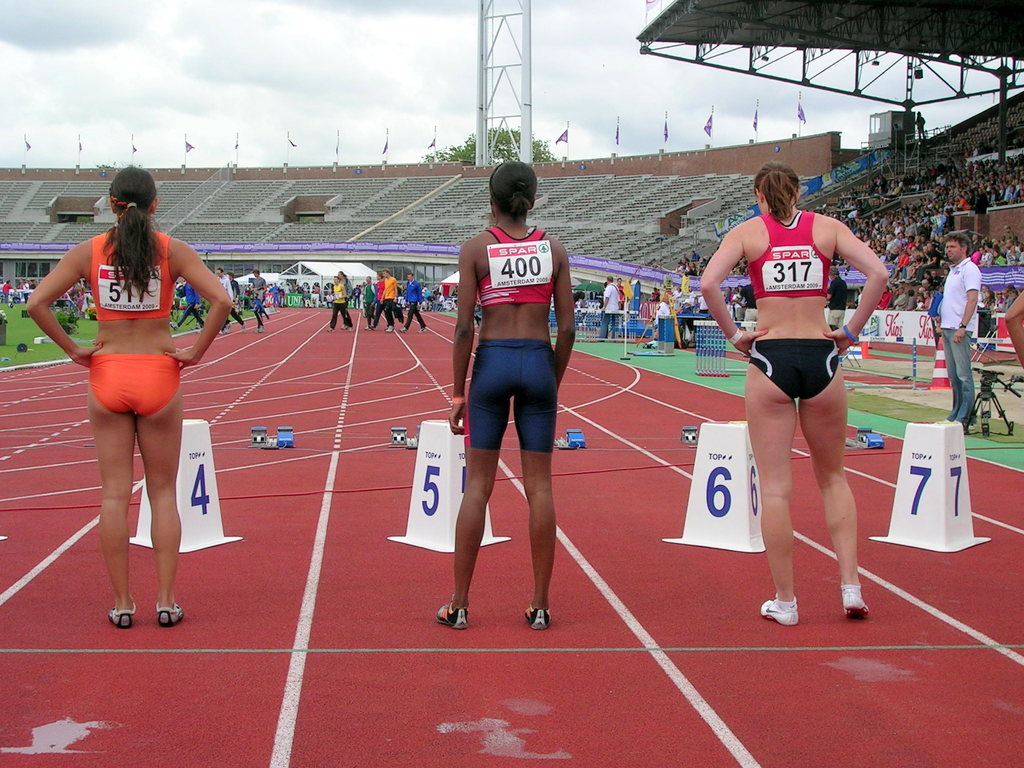Person: (0, 111, 1024, 628)
